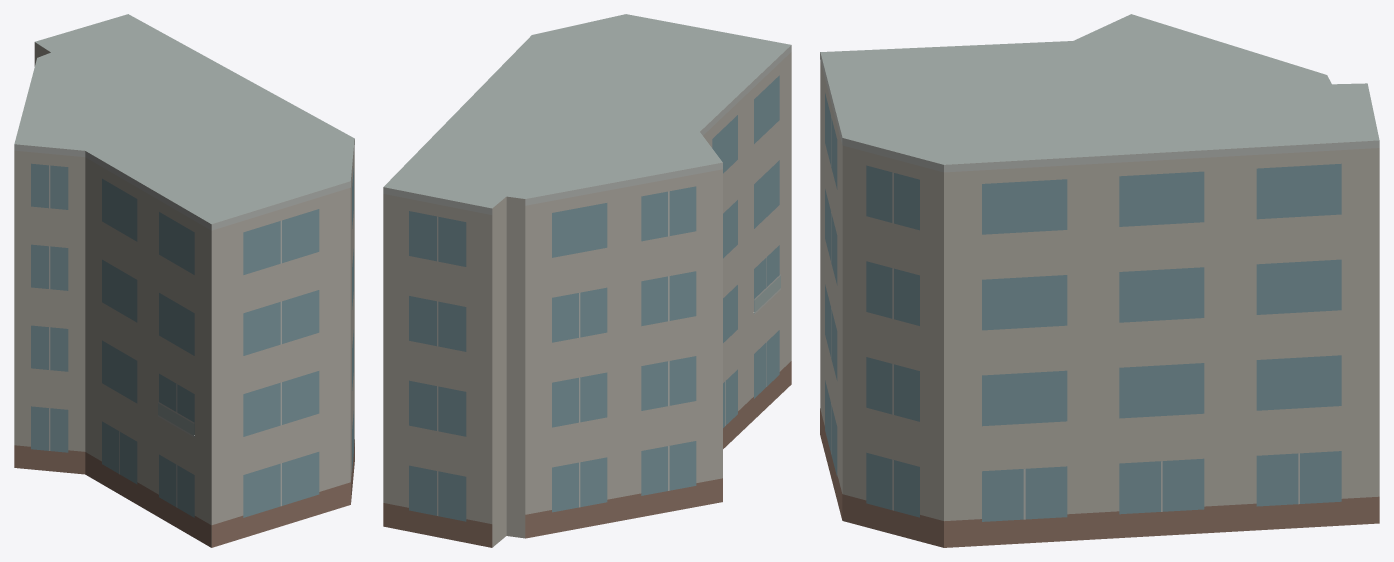
Rendered from survey-upis-32982530.glb.
The picture shows the model from 3 angles, left to right: view 1: azimuth 30°, elevation 25°; view 2: azimuth 150°, elevation 25°; view 3: azimuth 270°, elevation 25°; orthographic projection. The views are drawn at different scales.
Visible parts, largest first — view 1: survey-upis-32982530.tmp; view 2: survey-upis-32982530.tmp; view 3: survey-upis-32982530.tmp.
Boxes of the visible parts, <box> form: survey-upis-32982530.tmp: <box>14,14,354,547</box>; survey-upis-32982530.tmp: <box>383,14,791,547</box>; survey-upis-32982530.tmp: <box>820,14,1379,547</box>.
Size of the model in its own units: 10.44 by 12.35 by 16.36.
